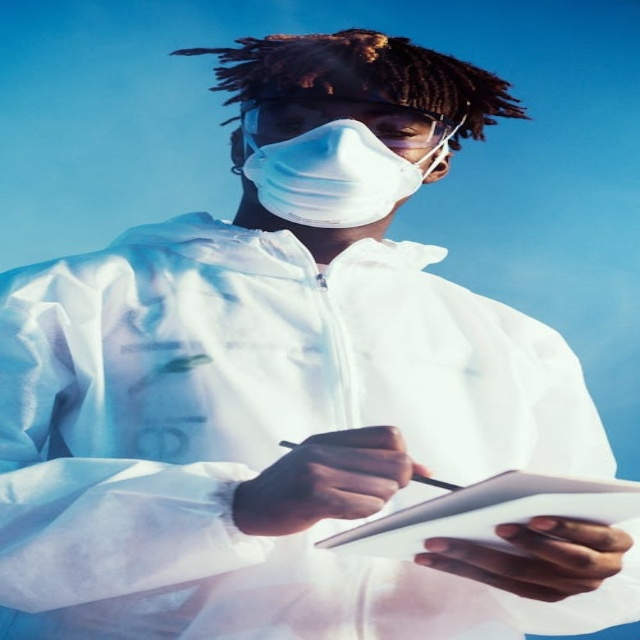Gafas: (243, 95, 465, 155)
Mascara: (224, 113, 429, 230)
Sin_guantes: (234, 425, 422, 536), (414, 512, 631, 603)
